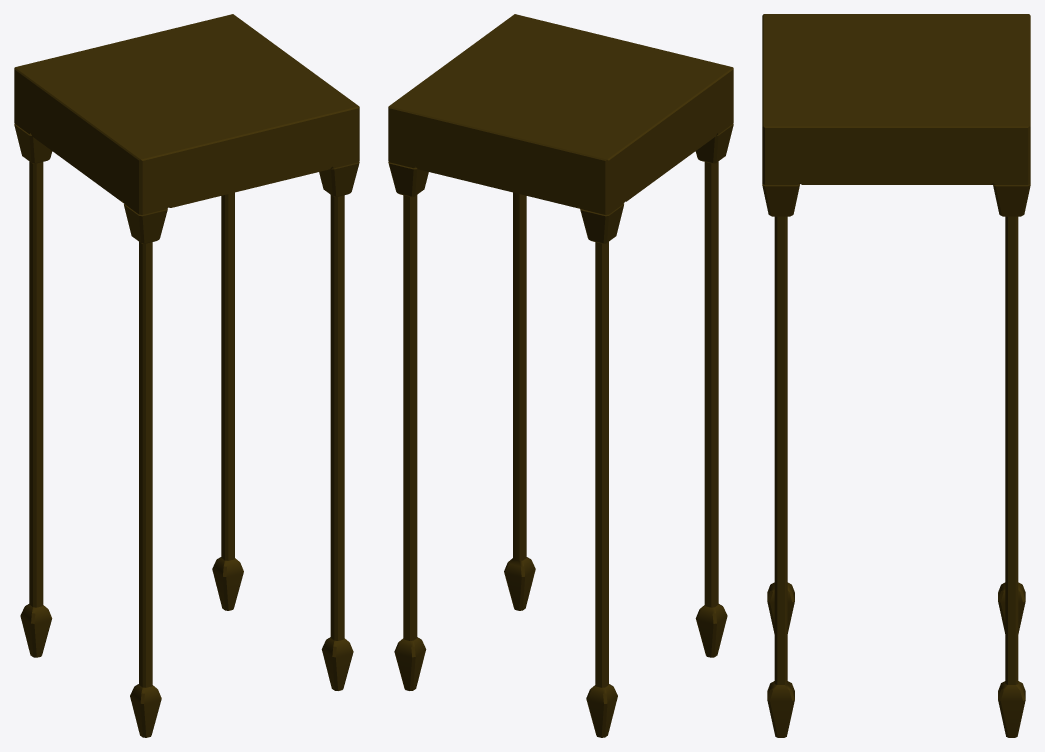
File: End Table.fbx
The picture shows the model from 3 angles, left to right: view 1: azimuth 30°, elevation 25°; view 2: azimuth 150°, elevation 25°; view 3: azimuth 270°, elevation 25°; orthographic projection. The views are drawn at different scales.
Visible parts, largest first — view 1: pCube75; view 2: pCube75; view 3: pCube75.
Boxes of the visible parts, x1=… form: pCube75: x1=14, y1=14, x2=359, y2=737; pCube75: x1=388, y1=14, x2=733, y2=737; pCube75: x1=762, y1=14, x2=1030, y2=737.
Bounding box in the file's own units: 1.71 × 4.32 × 1.71.
